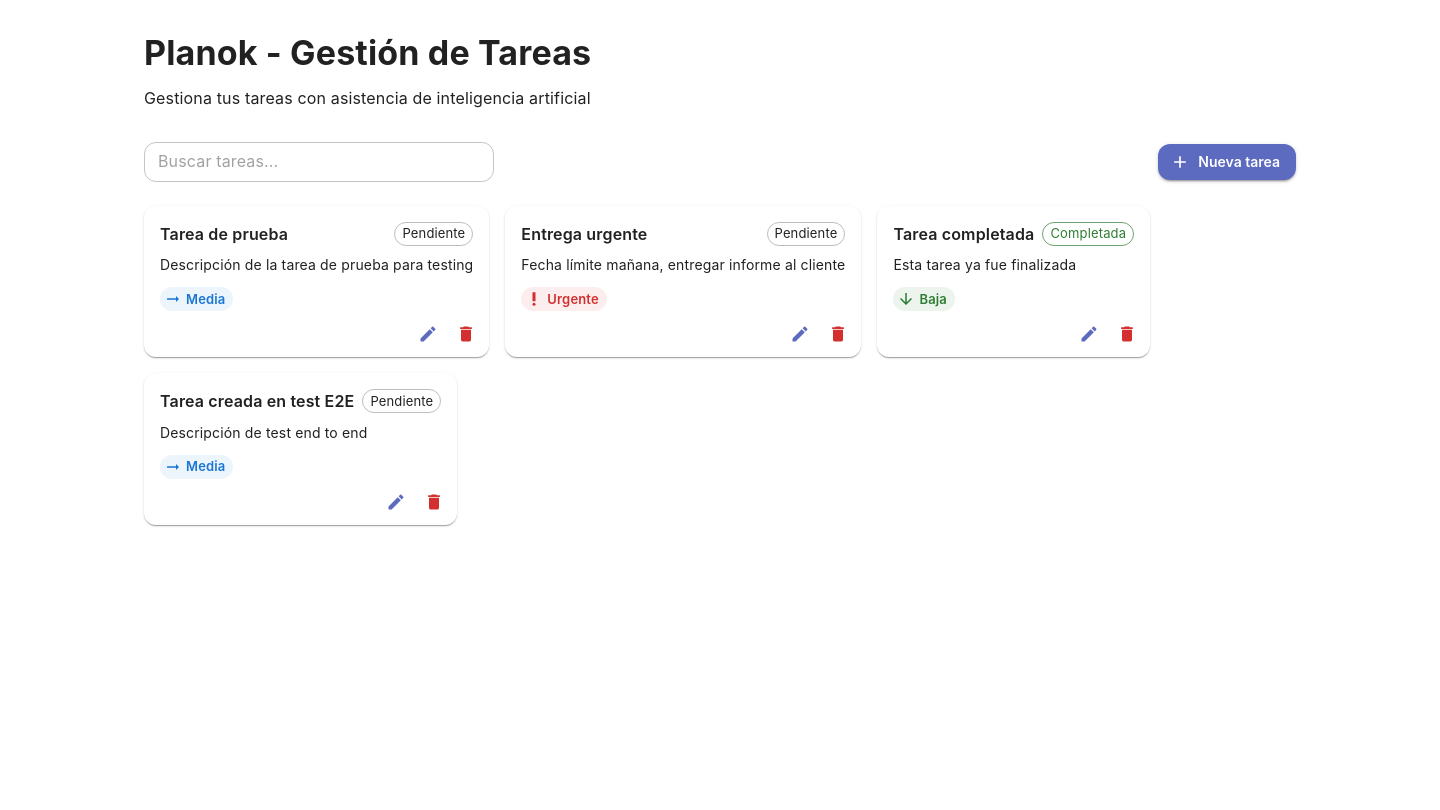
Test case: TasksPage - integración completa › debe eliminar una tarea tras confirmar
The image size is (1440, 810).
Expected: the heading "Tarea de prueba" is shown, [160, 224, 288, 244]
What coordinates should you click on to do the following:
click the 1st button named "Eliminar"
I would click on:
 (466, 334)
Its box is [451, 320, 481, 350].
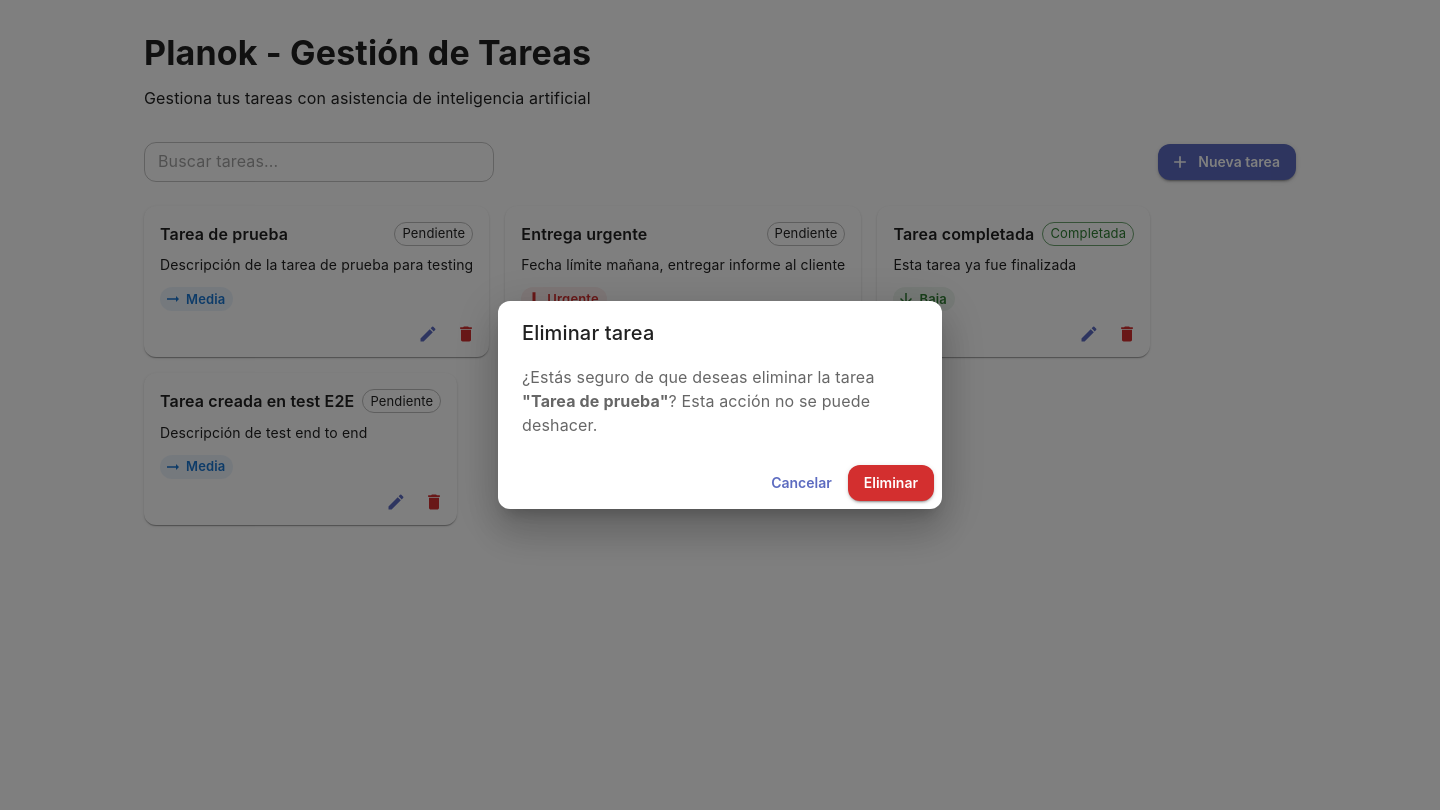
What coordinates should you click on to do the following:
click the button "Eliminar"
I would click on:
 (891, 483)
Its box is [848, 465, 934, 501].
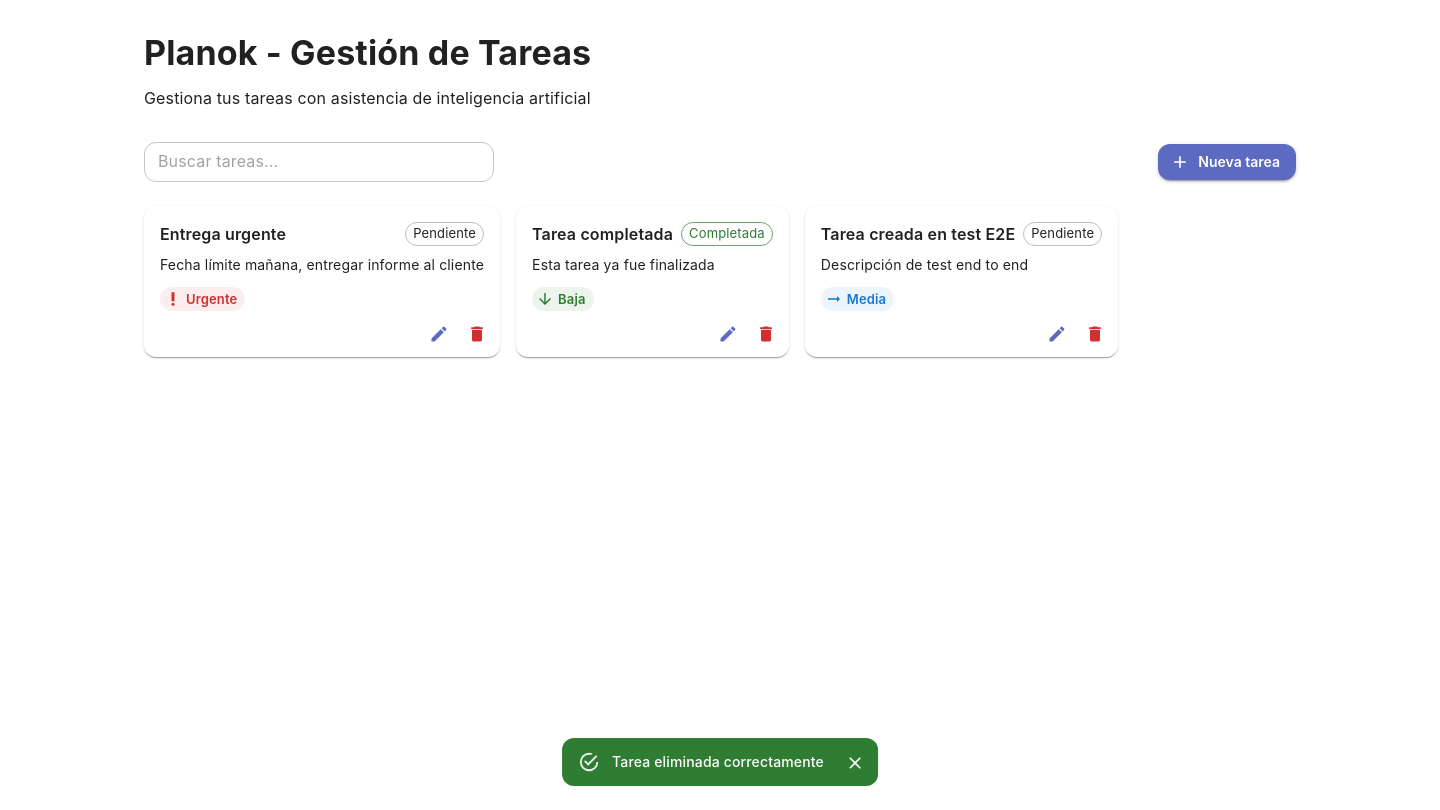
Now the text "Tarea eliminada correctamente" is shown, box [612, 753, 824, 770]
